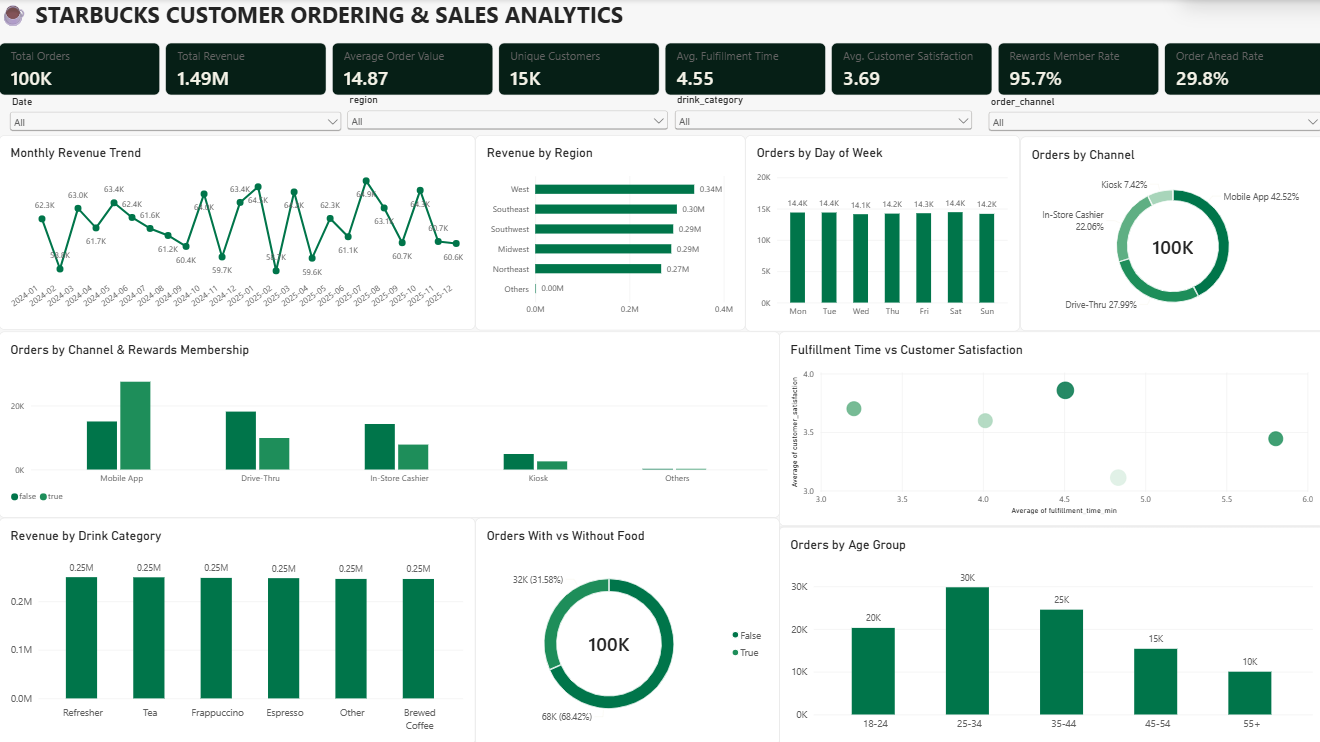

What the dashboard file says about the page in this screenshot:
{"tool":"powerbi","page":{"name":"Page 1","canvas":[1920,1080],"ordinal":0},"visuals":[{"type":"cardVisual","fields":{"Data":["Date Table.Total Orders","Date Table.Total Revenue","Date Table.Average Order Value","Date Table.Unique Customers","Date Table.Average Fulfillment Time","Date Table.Average Customer Satisfaction","Date Table.Rewards Member Rate","Date Table.Order Ahead Rate"]},"box":[0,63.8,1920.4,76.2],"z":0},{"type":"lineChart","title":"Monthly Revenue Trend","fields":{"Category":["Date Table.Year Month"],"Y":["Date Table.Total Revenue"]},"box":[0,197.6,689.5,282],"z":1000},{"type":"donutChart","title":"Orders by Channel","fields":{"Category":["starbucks_customer_ordering_patterns.order_channel"],"Y":["Date Table.Total Orders"]},"box":[1477.9,199.7,442.5,282],"z":2000},{"type":"clusteredColumnChart","title":"Revenue by Drink Category","fields":{"Category":["starbucks_customer_ordering_patterns.drink_category"],"Y":["Date Table.Total Revenue"]},"box":[0,751.3,689.5,329.3],"z":3000},{"type":"clusteredBarChart","title":"Revenue by Region","fields":{"Category":["starbucks_customer_ordering_patterns.region"],"Y":["Date Table.Total Revenue"]},"box":[689,198,391,282],"z":4000},{"type":"columnChart","title":"Orders by Day of Week","fields":{"Category":["Date Table.Day of Week"],"Y":["Date Table.Total Orders"]},"box":[1080.6,197.6,397.3,284],"z":5000},{"type":"clusteredColumnChart","title":"Orders by Age Group","fields":{"Category":["starbucks_customer_ordering_patterns.customer_age_group"],"Y":["Date Table.Total Orders"]},"box":[1130,763.6,790.4,317],"z":6000},{"type":"scatterChart","title":"Fulfillment Time vs Customer Satisfaction","fields":{"Series":["starbucks_customer_ordering_patterns.order_channel"],"Size":["Avg(starbucks_customer_ordering_patterns.total_spend)"],"X":["Avg(starbucks_customer_ordering_patterns.fulfillment_time_min)"],"Y":["Avg(starbucks_customer_ordering_patterns.customer_satisfaction)"]},"box":[1130,481.6,790.4,282],"z":7000},{"type":"clusteredColumnChart","title":"Orders by Channel & Rewards Membership","fields":{"Category":["starbucks_customer_ordering_patterns.order_channel"],"Series":["starbucks_customer_ordering_patterns.is_rewards_member"],"Y":["Date Table.Total Orders"]},"box":[0,481.6,1130,269.6],"z":8000},{"type":"donutChart","title":"Orders With vs Without Food","fields":{"Category":["starbucks_customer_ordering_patterns.has_food_item"],"Y":["Date Table.Total Orders"]},"box":[689.5,751.3,440.5,329.3],"z":9000},{"type":"slicer","fields":{"Values":["Date Table.Date"]},"box":[10.3,140,489.9,57.6],"z":11000},{"type":"slicer","fields":{"Values":["starbucks_customer_ordering_patterns.region"]},"box":[500.2,137.9,473.4,59.7],"z":12000},{"type":"slicer","fields":{"Values":["starbucks_customer_ordering_patterns.order_channel"]},"box":[1428.5,140,491.9,67.9],"z":13000},{"type":"slicer","fields":{"Values":["starbucks_customer_ordering_patterns.drink_category"]},"box":[973.6,137.9,440.5,59.7],"z":14000},{"type":"textbox","box":[0,0,1920.4,63.8],"z":15000}]}

Visuals, with their boxes in screenshot pixels (x1, y1, x2, y2), scaled from the page's 1920x1080 canvas onto the 1320x742 screenshot:
cardVisual - Date Table.Total Orders x Date Table.Total Revenue: bbox=(0, 44, 1319, 96)
"Monthly Revenue Trend" lineChart: bbox=(0, 136, 474, 330)
"Orders by Channel" donutChart: bbox=(1016, 137, 1319, 331)
"Revenue by Drink Category" clusteredColumnChart: bbox=(0, 516, 474, 741)
"Revenue by Region" clusteredBarChart: bbox=(474, 136, 742, 330)
"Orders by Day of Week" columnChart: bbox=(743, 136, 1016, 331)
"Orders by Age Group" clusteredColumnChart: bbox=(777, 525, 1319, 741)
"Fulfillment Time vs Customer Satisfaction" scatterChart: bbox=(777, 331, 1319, 525)
"Orders by Channel & Rewards Membership" clusteredColumnChart: bbox=(0, 331, 777, 516)
"Orders With vs Without Food" donutChart: bbox=(474, 516, 777, 741)
slicer - Date Table.Date: bbox=(7, 96, 344, 136)
slicer - starbucks_customer_ordering_patterns.region: bbox=(344, 95, 669, 136)
slicer - starbucks_customer_ordering_patterns.order_channel: bbox=(982, 96, 1319, 143)
slicer - starbucks_customer_ordering_patterns.drink_category: bbox=(669, 95, 972, 136)
textbox: bbox=(0, 0, 1319, 44)
